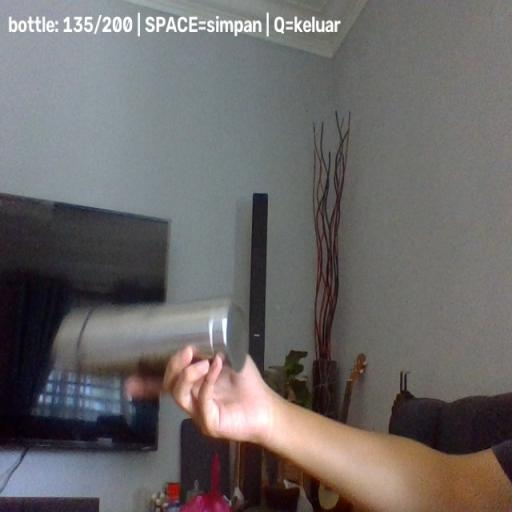Bottle: (50, 296, 248, 378)
